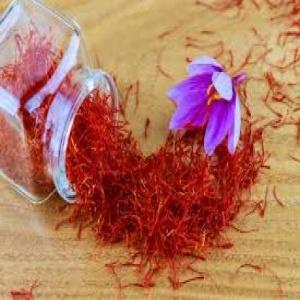Saffron: (170, 56, 243, 154)
